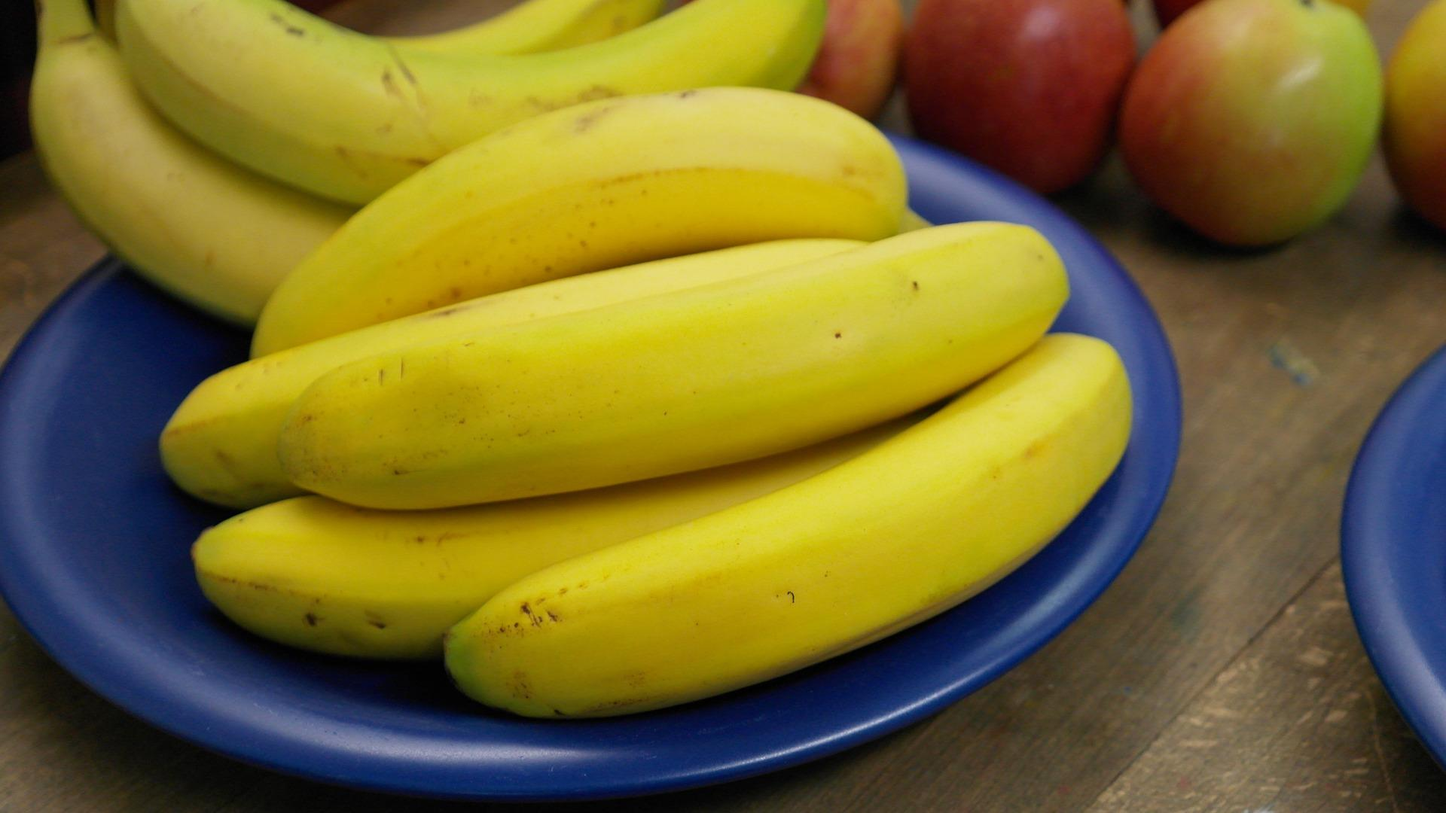buah_sayur_vitA: (432, 272, 942, 390), (526, 122, 860, 227), (578, 559, 825, 665)
